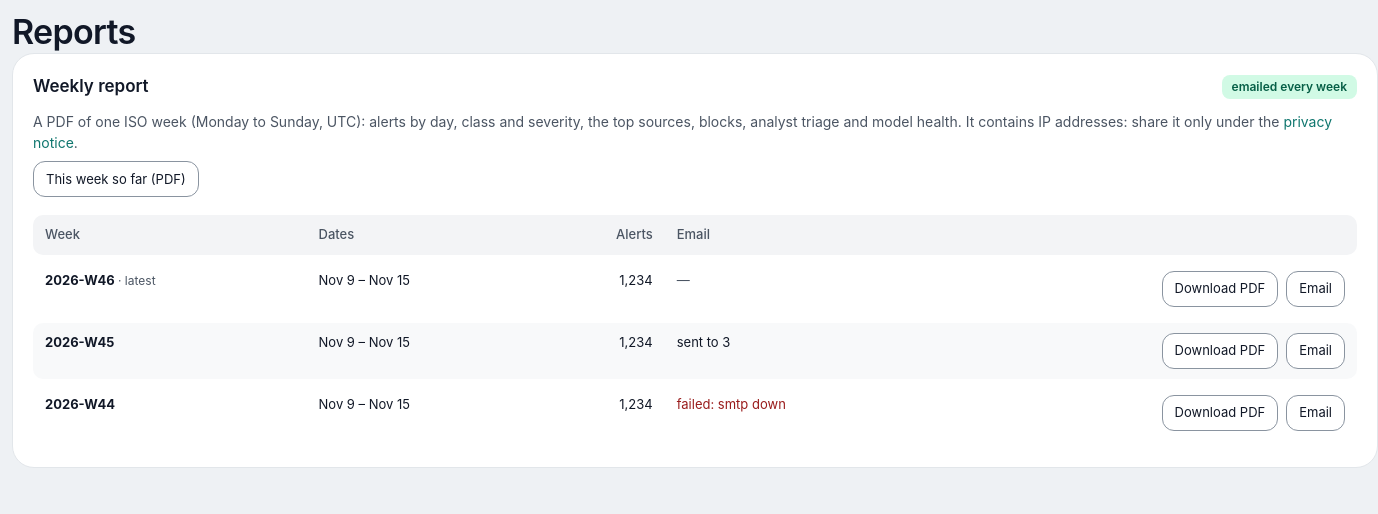
Test: Reports page › singular recipient
Check: the text "2026-W46" is shown, box [45,272,115,288]
Click the button with aria-label "Email the report for 2026-W46" at point(1316, 289), box [1286,271,1345,307]
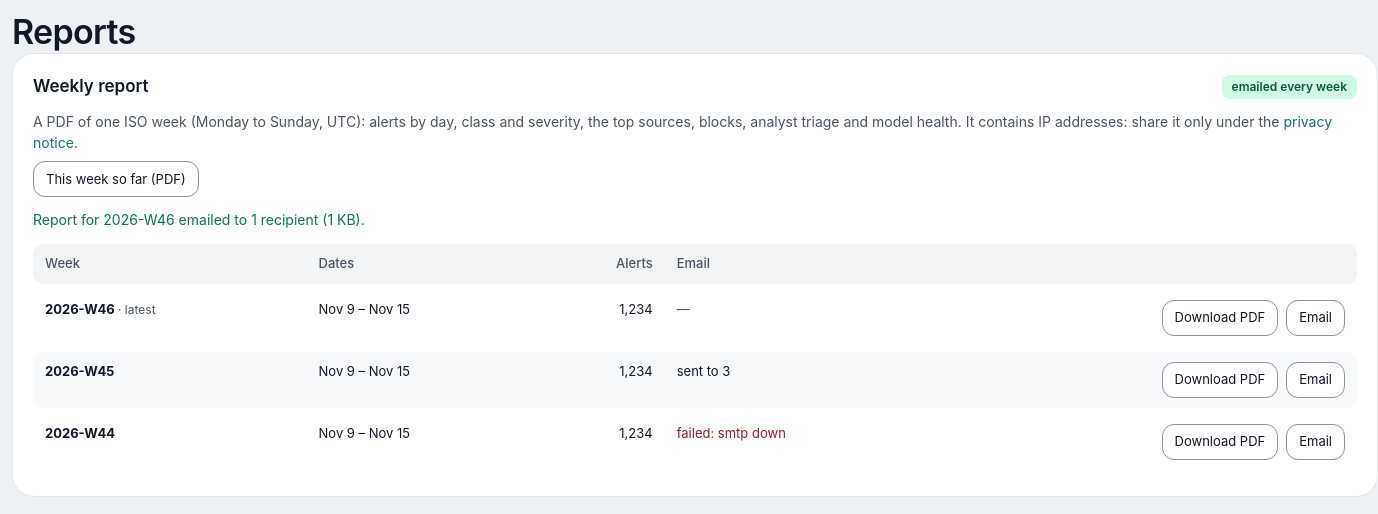
Check: the text "Report for 2026-W46 emailed to 1 recipient (1 KB)." is shown, box [33,211,365,228]
